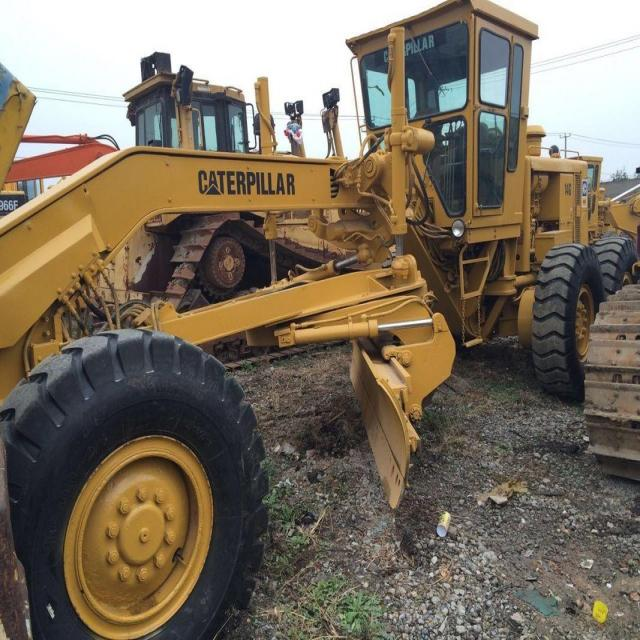Grader: (8, 4, 640, 639)
